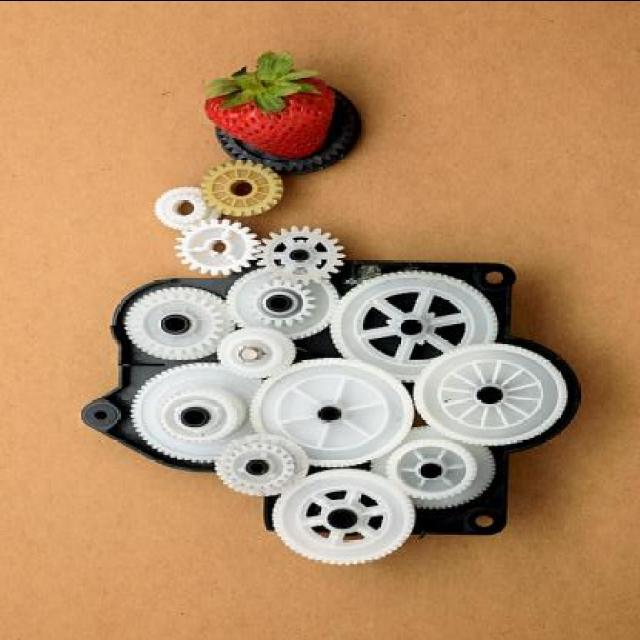Strawberry: (208, 60, 354, 164)
